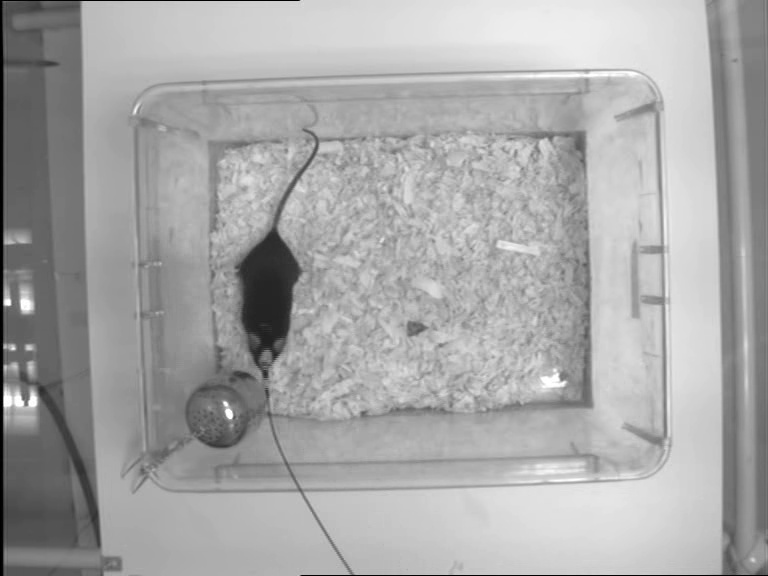mice: (234, 122, 321, 372)
